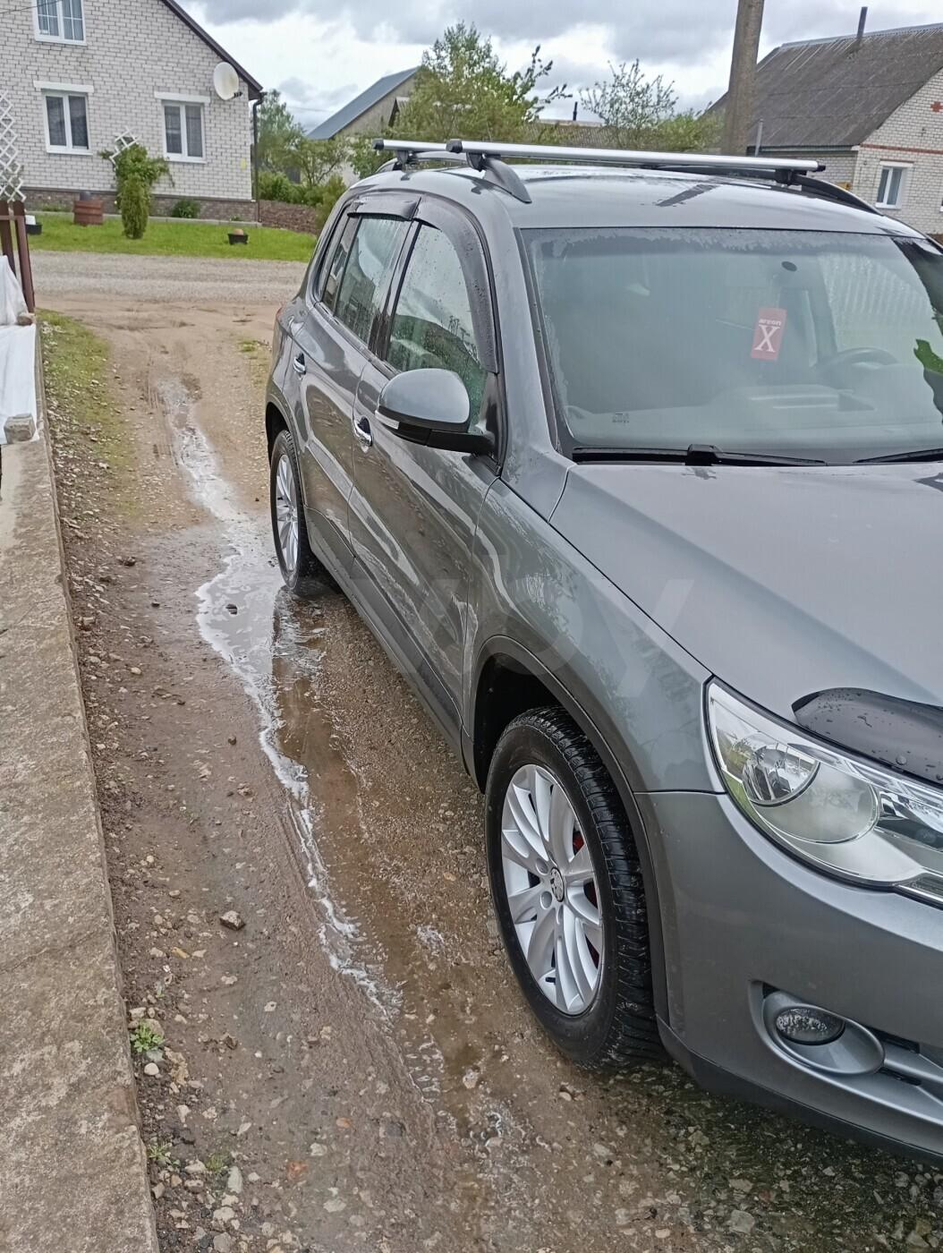Tiguan_2007-2011: (251, 140, 943, 1180)
